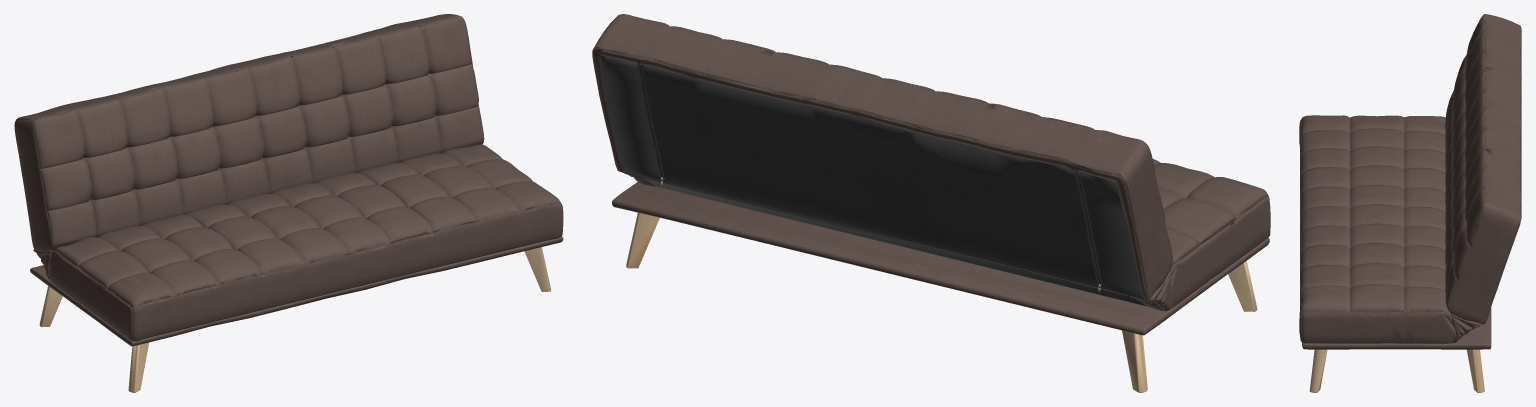
The picture shows the model from 3 angles, left to right: view 1: azimuth 30°, elevation 25°; view 2: azimuth 150°, elevation 25°; view 3: azimuth 270°, elevation 25°; orthographic projection. The views are drawn at different scales.
Parts seen in each view (by area): view 1: B07R3TX83H; view 2: B07R3TX83H; view 3: B07R3TX83H.
Part boxes in pixels (x1,y1,x2,y2): B07R3TX83H: (14, 14, 563, 392); B07R3TX83H: (592, 14, 1270, 392); B07R3TX83H: (1299, 14, 1521, 392).
Size of the model in its own units: 1.8 by 0.81 by 0.8601.
Materials: 1 (1 with a texture image).
